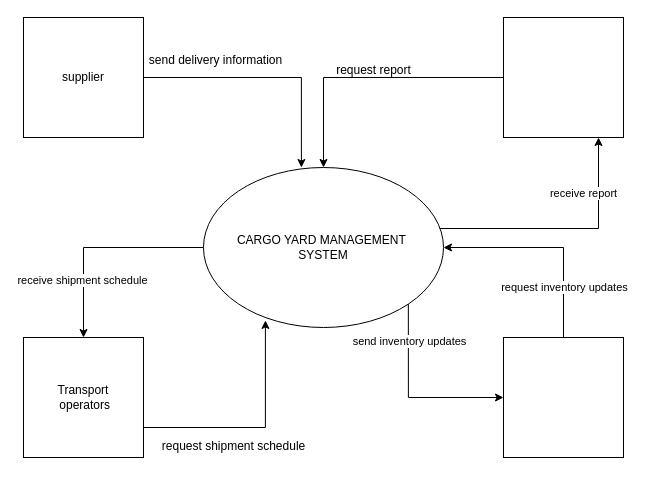
The diagram is 645 pixels wide and 479 high, and some of its shapes have lost their labels. The shapes that lost their labels are listed below. From the top down, each one's centre as x and y in pixels, then its label:
At point (563, 77): "Logistic system".
At point (563, 397): "Warehouse manager".
